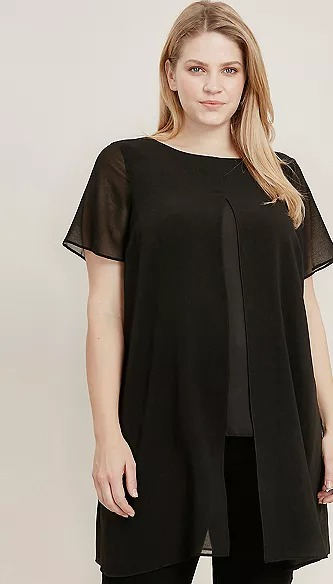S_short blouse: (61, 136, 333, 572)
